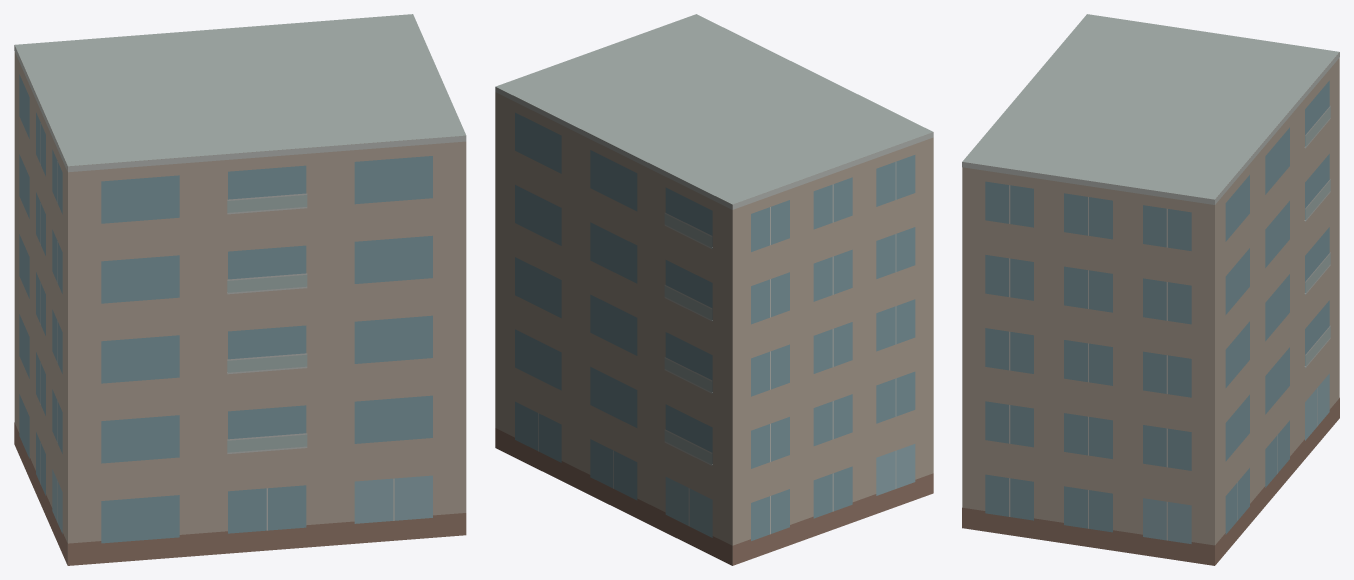
File: survey-upis-32893555.glb
3 renders of one model, left to right at view 1: azimuth 30°, elevation 25°; view 2: azimuth 150°, elevation 25°; view 3: azimuth 270°, elevation 25°, orthographic. The views are drawn at different scales.
Visible parts, largest first — view 1: survey-upis-32893555.tmp; view 2: survey-upis-32893555.tmp; view 3: survey-upis-32893555.tmp.
Part boxes in pixels (x1=…): survey-upis-32893555.tmp: x1=14, y1=14, x2=466, y2=565; survey-upis-32893555.tmp: x1=495, y1=14, x2=933, y2=565; survey-upis-32893555.tmp: x1=962, y1=14, x2=1339, y2=565.
Bounding box in the file's own units: 17.84 × 16.4 × 15.34.
